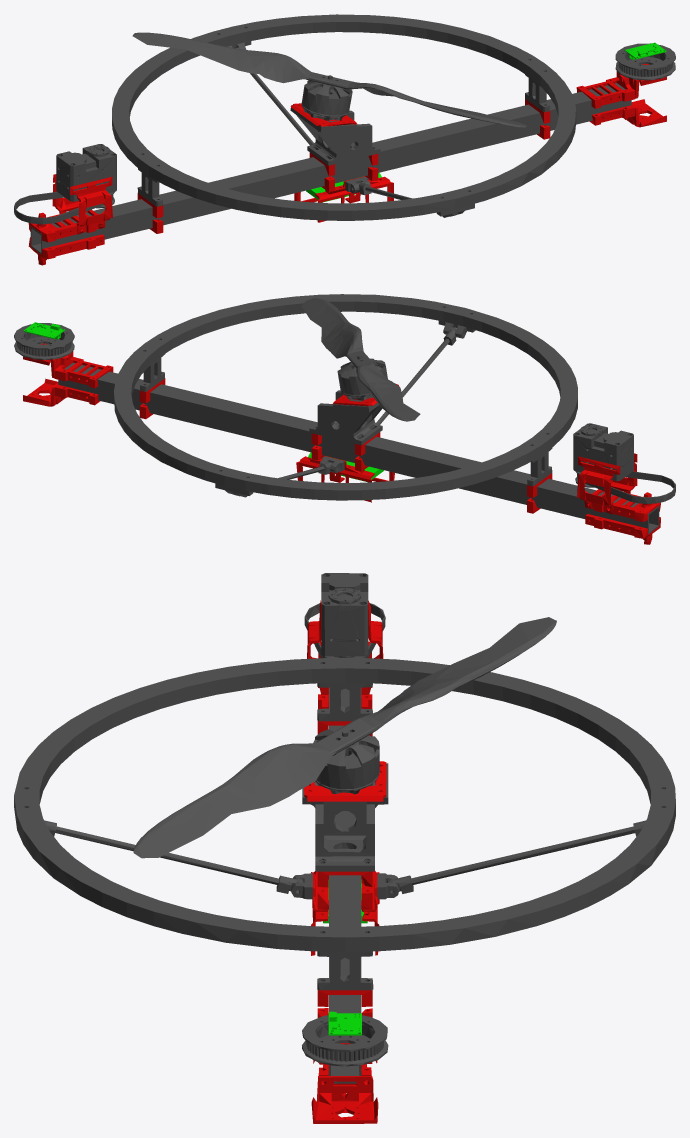
The model's file is tilt_10deg_15inch_link3.dae.
3 views of the same model, one above another, from view 1: azimuth 30°, elevation 25°; view 2: azimuth 150°, elevation 25°; view 3: azimuth 270°, elevation 25° (orthographic). The views are drawn at different scales.
Visible parts, largest first — view 1: link3_tilt_15inch_black, link3_tilt_15inch_red, link3_green_part; view 2: link3_tilt_15inch_black, link3_tilt_15inch_red, link3_green_part; view 3: link3_tilt_15inch_black, link3_tilt_15inch_red, link3_green_part.
Part boxes in pixels (box(x1,y1,x2,y2)): link3_tilt_15inch_black: box(14, 14, 675, 254); link3_tilt_15inch_red: box(28, 64, 666, 265); link3_green_part: box(306, 42, 666, 202); link3_tilt_15inch_black: box(14, 294, 675, 534); link3_tilt_15inch_red: box(23, 343, 660, 544); link3_green_part: box(23, 322, 383, 481); link3_tilt_15inch_black: box(14, 573, 675, 1083); link3_tilt_15inch_red: box(304, 600, 386, 1123); link3_green_part: box(323, 880, 367, 1035).
Size of the model in its own units: 0.6503 by 0.4001 by 0.1437.
